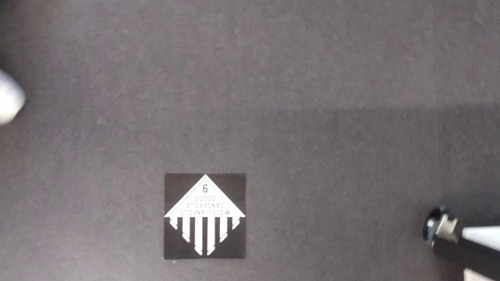misgoods: (164, 172, 249, 260)
